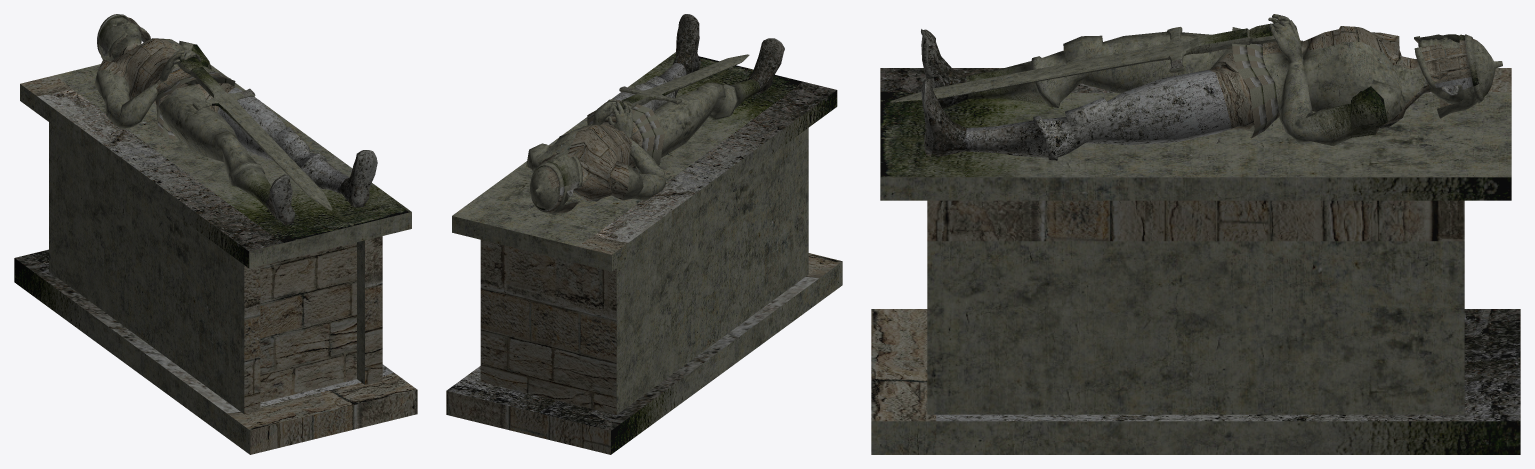
File: knight_statue_1_001.obj
3 views of the same model, side by side, from view 1: azimuth 30°, elevation 25°; view 2: azimuth 150°, elevation 25°; view 3: azimuth 270°, elevation 25° (orthographic). The views are drawn at different scales.
Visible parts, largest first — view 1: Cube.001, Human.001_body.000, sword_Cube.002, helmet_Circle.001; view 2: Cube.001, Human.001_body.000, helmet_Circle.001, sword_Cube.002; view 3: Cube.001, Human.001_body.000, sword_Cube.002, helmet_Circle.001.
Part boxes in pixels (x1=…): Cube.001: x1=14, y1=64, x2=417, y2=454; Human.001_body.000: x1=94, y1=17, x2=377, y2=225; sword_Cube.002: x1=174, y1=54, x2=332, y2=210; helmet_Circle.001: x1=97, y1=14, x2=150, y2=59; Cube.001: x1=446, y1=52, x2=842, y2=454; Human.001_body.000: x1=526, y1=14, x2=784, y2=204; helmet_Circle.001: x1=530, y1=151, x2=582, y2=213; sword_Cube.002: x1=608, y1=54, x2=749, y2=113; Cube.001: x1=871, y1=68, x2=1520, y2=454; Human.001_body.000: x1=921, y1=14, x2=1485, y2=160; sword_Cube.002: x1=890, y1=23, x2=1275, y2=102; helmet_Circle.001: x1=1414, y1=34, x2=1502, y2=118.
Size of the model in its own units: 0.81 by 1.28 by 1.98.
